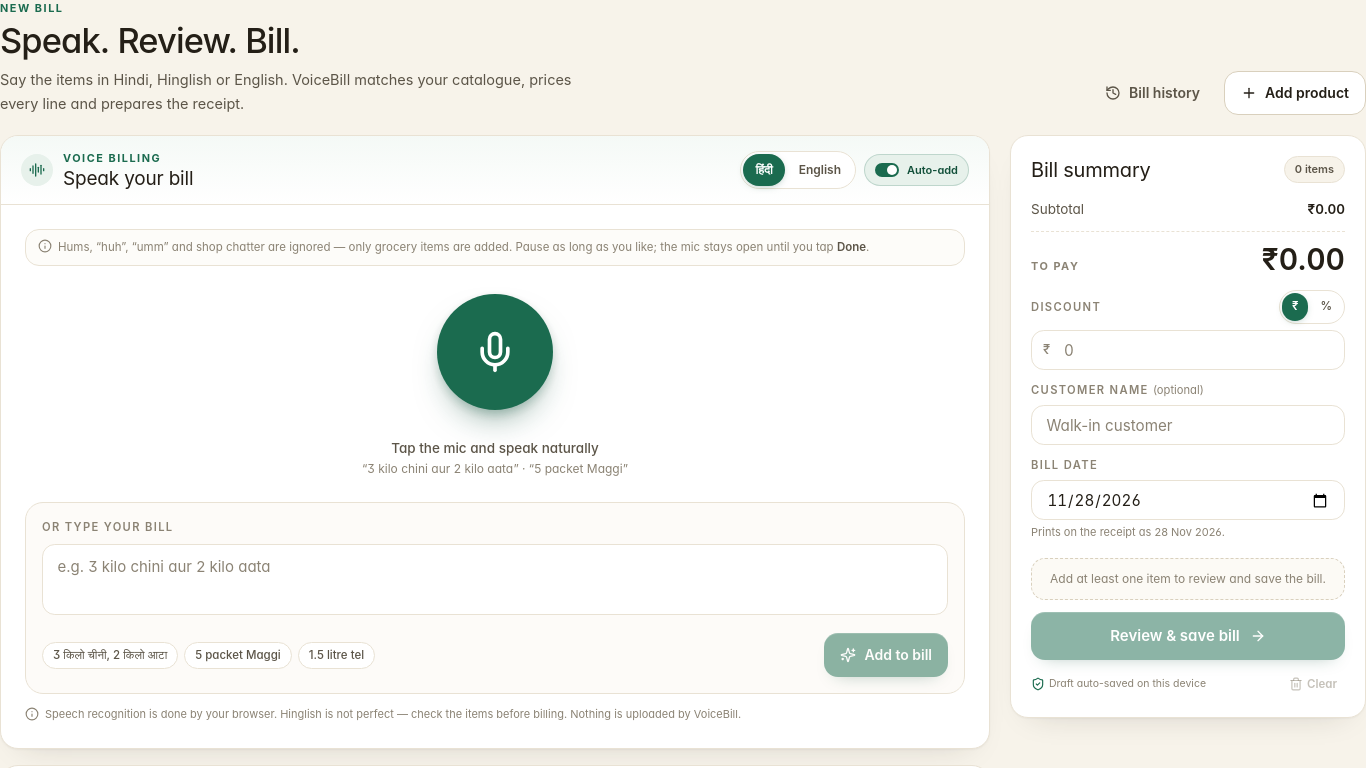
Test: continuous voice list › recovers from a network error and keeps the spoken list
Click the button named "start voice input": (495,352) [437,294,553,410]
(page scrolled)
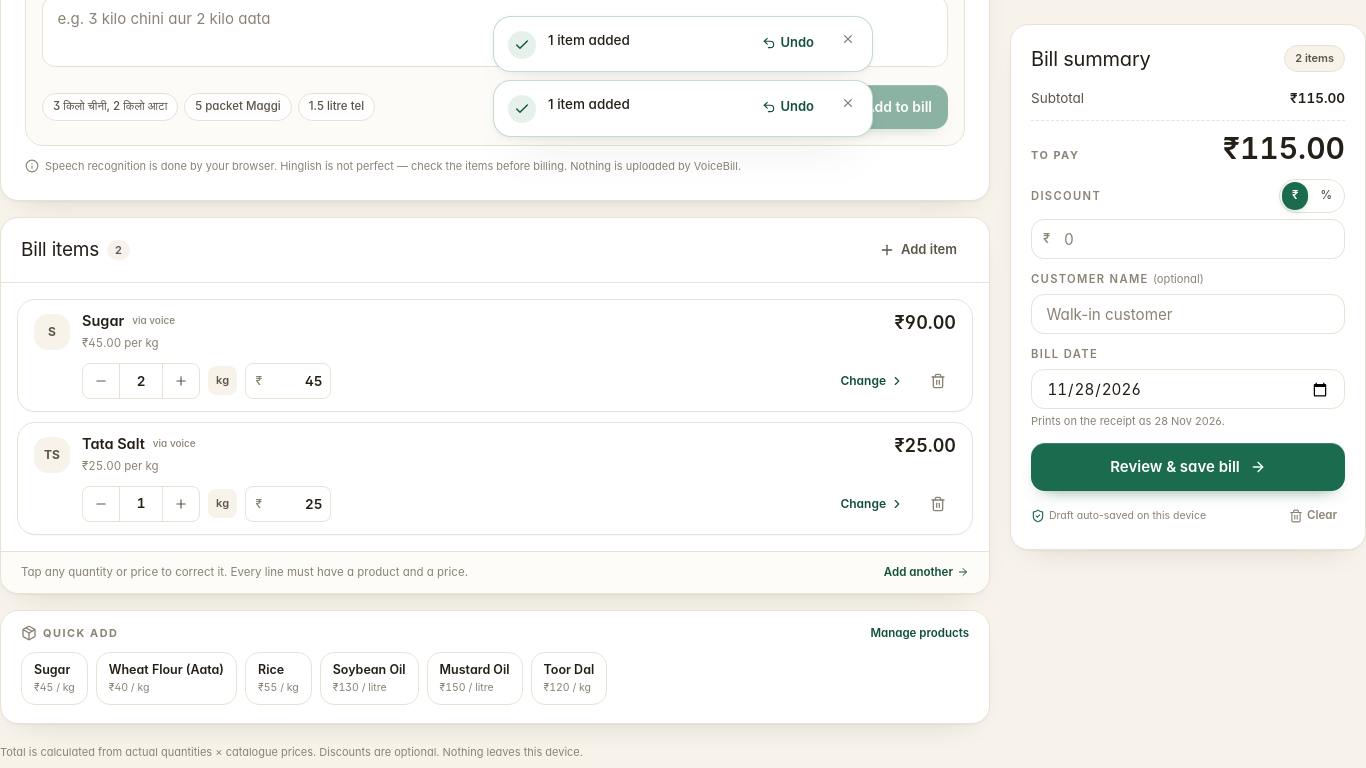
Expected: the field named "Quantity of Sugar" is shown, [119,364,163,398]
Expected: the field named "Quantity of Tata Salt" is shown, [119,487,163,521]
